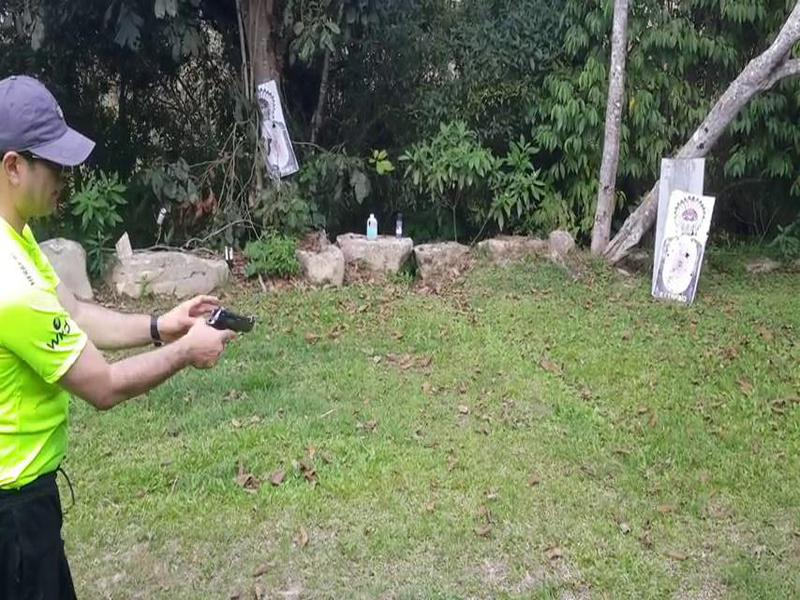Pistola: (198, 299, 261, 347)
